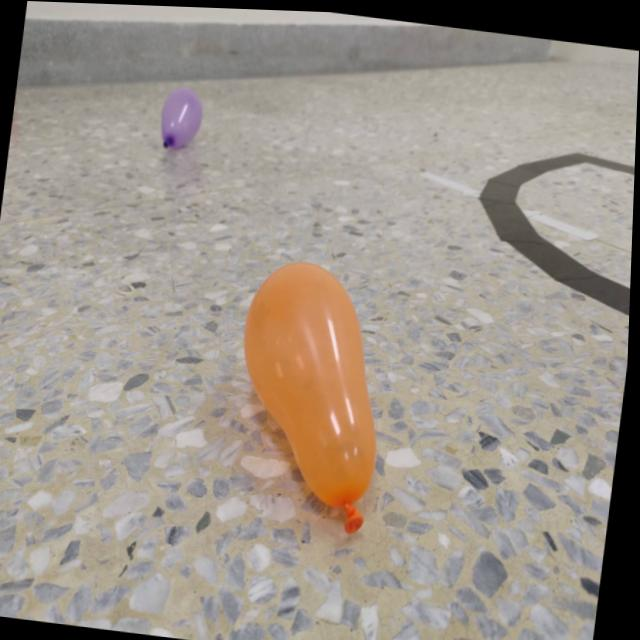other: (224, 252, 401, 534), (157, 82, 206, 152)
